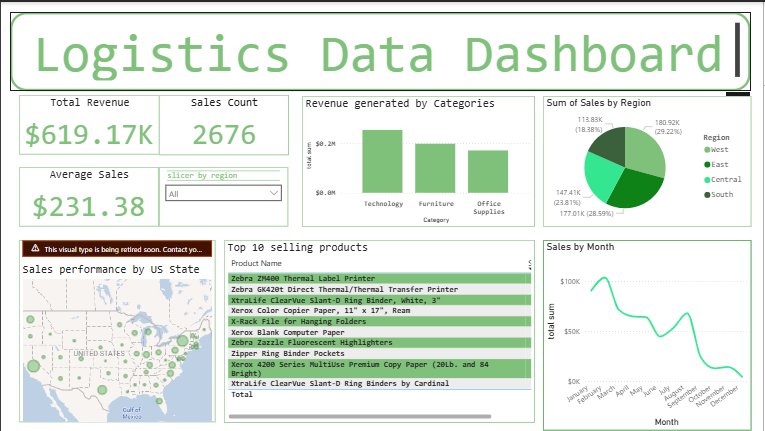

The page's visual inventory and layout, read from the dashboard file:
{"tool":"powerbi","page":{"name":"Page 1","canvas":[1280,720],"ordinal":0},"visuals":[{"type":"textbox","box":[14.9,16.4,1244.3,132.9],"z":0},{"type":"pieChart","fields":{"Category":["train.Region"],"Y":["Sum(train.Sales)"]},"box":[909.7,158.3,349.5,219.6],"z":1000},{"type":"card","title":"Total Revenue","fields":{"Values":["train.total sum"]},"box":[29.9,156.8,236,100.1],"z":2000},{"type":"map","title":"Sales performance  by US State","fields":{"Category":["train.State"],"Size":["train.total sum"]},"box":[29.9,400.3,330.1,306.2],"z":3000},{"type":"card","title":"Average Sales","fields":{"Values":["train.average sale"]},"box":[29.9,277.8,234.5,100.1],"z":4000},{"type":"tableEx","title":"Top 10 selling products","fields":{"Values":["train.Product Name","Sum(train.Sales)"]},"box":[374.6,399.8,522.4,307.4],"z":5000},{"type":"card","title":"Sales Count","fields":{"Values":["train.sales count"]},"box":[265.4,156.2,218.4,100.8],"z":6000},{"type":"columnChart","title":"Revenue generated by Categories","fields":{"Category":["train.Category"],"Y":["train.total sum"]},"box":[506.4,158.3,391.4,219.6],"z":7000},{"type":"lineChart","title":"Sales by Month","fields":{"Category":["train.Order Date.Variation.Date Hierarchy.Month"],"Y":["train.total sum"]},"box":[909.7,400.3,349.5,319.7],"z":8000},{"type":"slicer","fields":{"Values":["train.Region"]},"box":[265.9,277.8,216.6,100.1],"z":9000}]}

Visuals, with their boxes in screenshot pixels (x1, y1, x2, y2), scaled from the page's 1280x720 canvas onto the 765x431 screenshot:
textbox: 9/10/753/89
pieChart - train.Region x Sum(train.Sales): 544/95/753/226
"Total Revenue" card: 18/94/159/154
"Sales performance  by US State" map: 18/240/215/423
"Average Sales" card: 18/166/158/226
"Top 10 selling products" tableEx: 224/239/536/423
"Sales Count" card: 159/94/289/154
"Revenue generated by Categories" columnChart: 303/95/537/226
"Sales by Month" lineChart: 544/240/753/430
slicer - train.Region: 159/166/288/226
